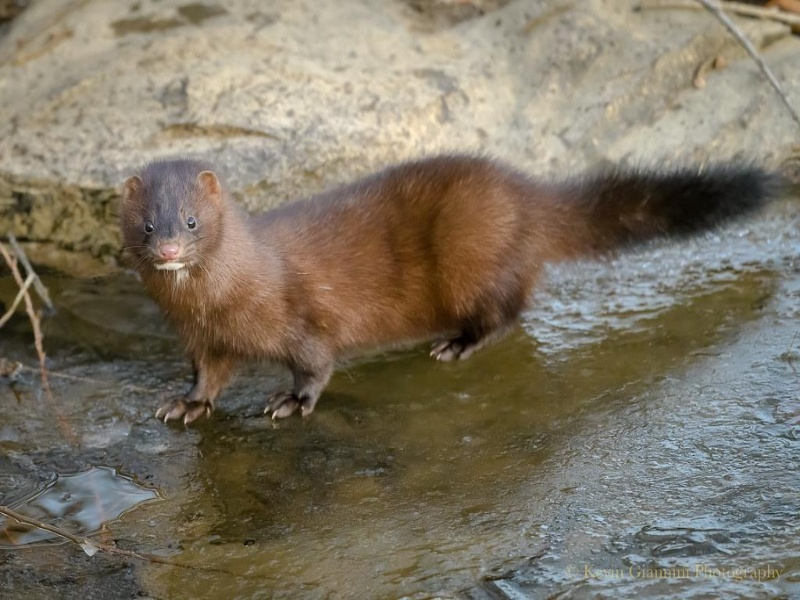minkish: (121, 148, 776, 427)
